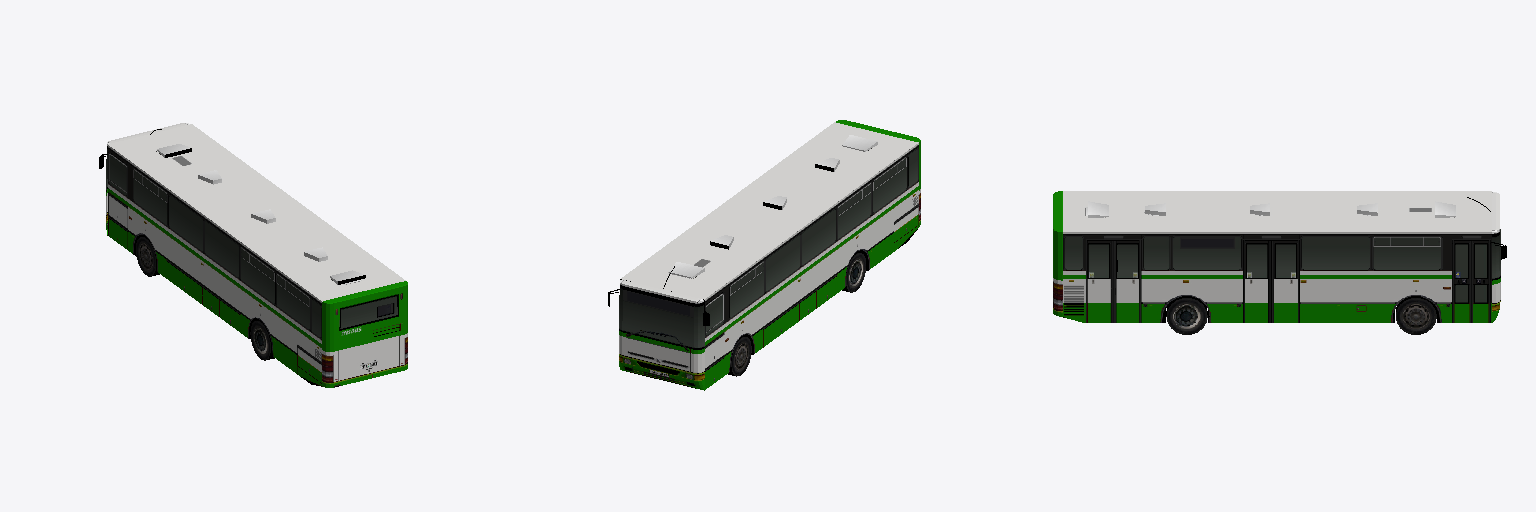
3 views of the same model, side by side, from view 1: azimuth 30°, elevation 25°; view 2: azimuth 150°, elevation 25°; view 3: azimuth 270°, elevation 25° (orthographic).
Parts seen in each view (by area): view 1: Box007, Cylinder003, Cylinder004; view 2: Box007, Cylinder003, Cylinder004; view 3: Box007, Cylinder005, Cylinder002.
Boxes of the visible parts, <box> form: Box007: <box>99,123,407,387</box>; Cylinder003: <box>136,236,159,276</box>; Cylinder004: <box>250,320,274,360</box>; Box007: <box>608,120,920,390</box>; Cylinder003: <box>728,336,751,376</box>; Cylinder004: <box>842,252,865,292</box>; Box007: <box>1053,191,1506,322</box>; Cylinder005: <box>1166,296,1207,334</box>; Cylinder002: <box>1396,296,1436,334</box>.
Bounding box in the file's own units: 3.21 × 3.68 × 12.82.
Materials: 1 (1 with a texture image).